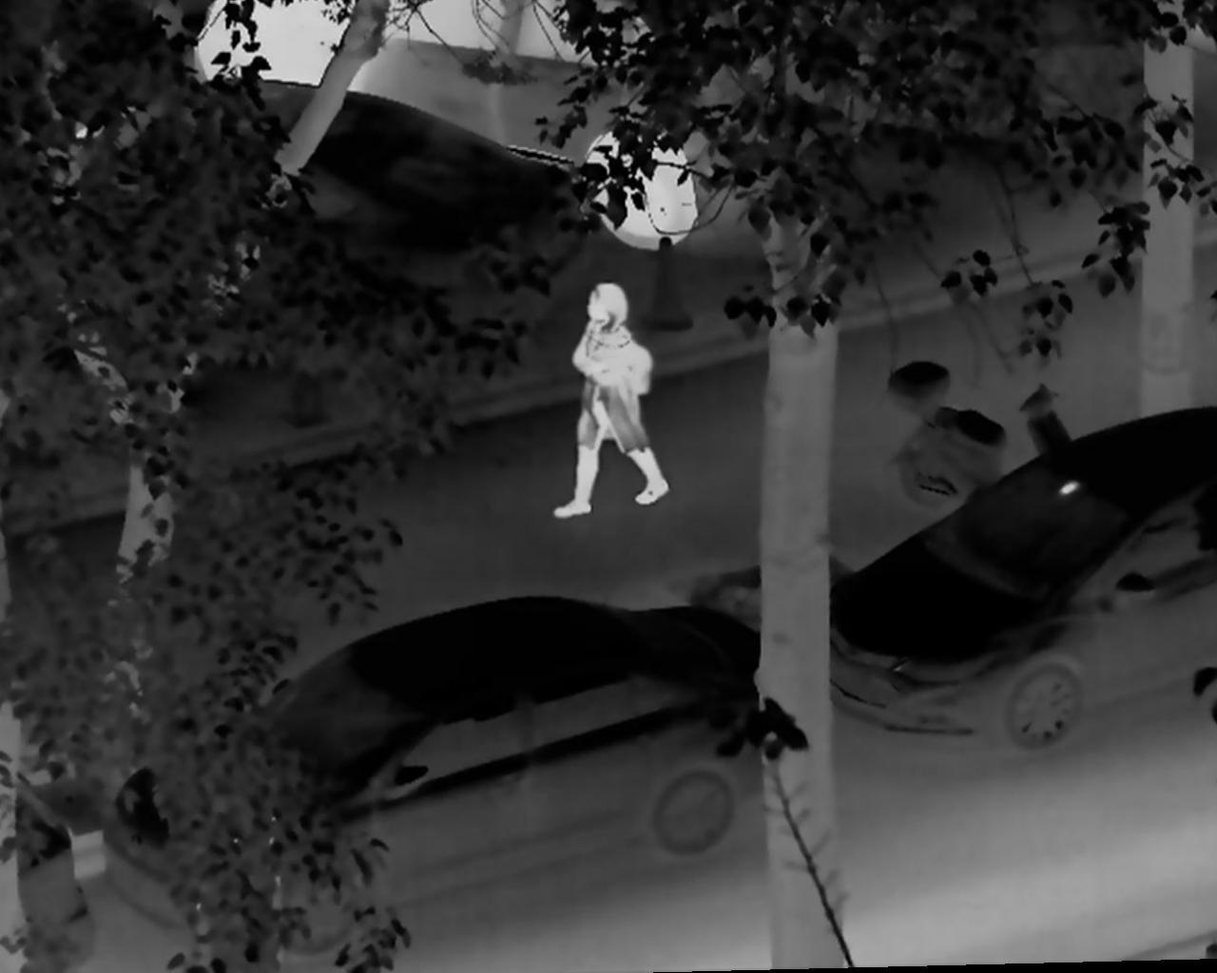person: (541, 279, 673, 525)
